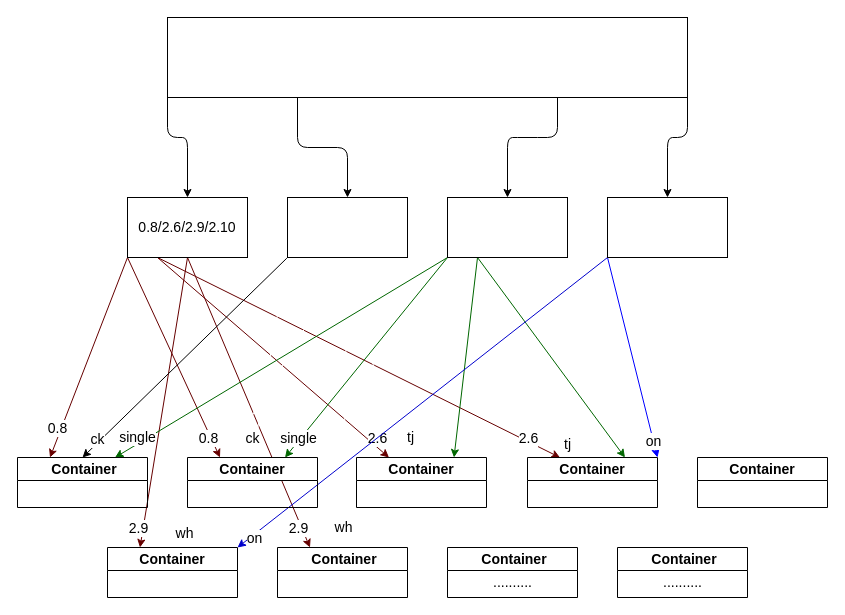
The diagram is 845 pixels wide and 615 high, and some of its shapes have lost their labels. The shapes that lost their labels are listed below. From the top down, each one's centre as x and y in pixels, then its label:
At point 427,57: "输入的选项: regression_start [version] [project] [device] [trailer]".
At point 347,227: "tj/ck/eh/wh...".
At point 507,227: "single or double device".
At point 667,227: "on trailer/ off trailer".
